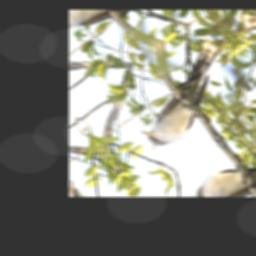Cuckoo: (118, 37, 251, 154)
